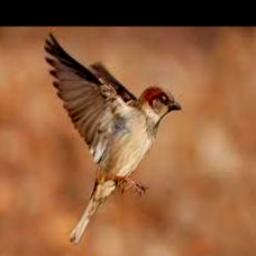Sparrow: (45, 31, 183, 243)
